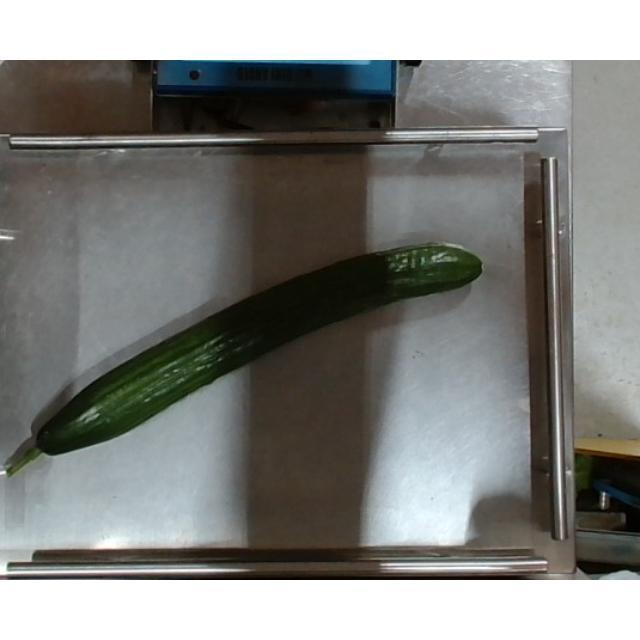cucumber: (6, 241, 484, 477)
